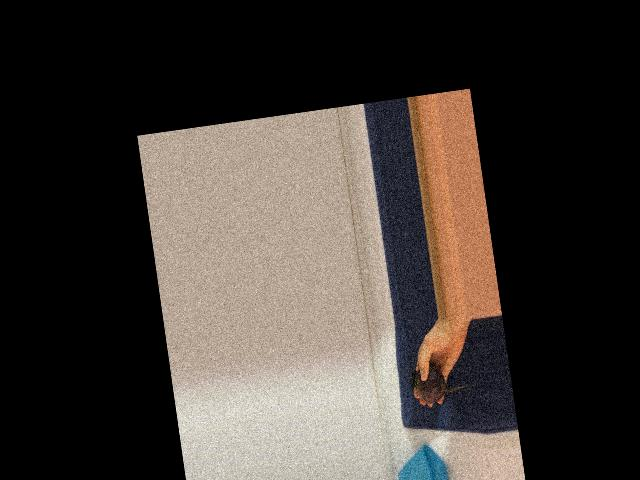beet: (408, 357, 470, 405)
